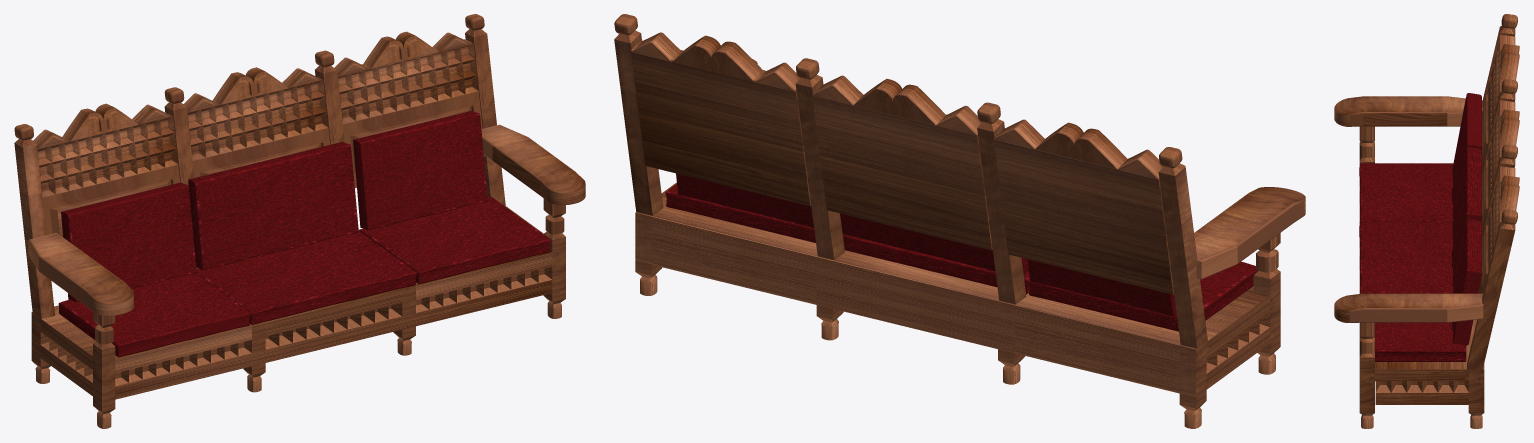
Rendered from SillonTriple.obj.
The picture shows the model from 3 angles, left to right: view 1: azimuth 30°, elevation 25°; view 2: azimuth 150°, elevation 25°; view 3: azimuth 270°, elevation 25°; orthographic projection. The views are drawn at different scales.
Parts seen in each view (by area): view 1: BaseTriple:pCube34, AlmohadasTriple:pasted__pasted__pasted__pCube35pasted__pasted__g, AlmohadasTriple:pasted__pasted__pCube35pasted__group92group94, AlmohadasTriple:pCube35, AlmohadasTriple:pasted__pasted__pCube35pasted__group92group95, AlmohadasTriple:pasted__pasted__pCube35pasted__group92group93; view 2: BaseTriple:pCube34, AlmohadasTriple:pasted__pasted__pasted__pCube35pasted__pasted__g, AlmohadasTriple:pasted__pasted__pCube35pasted__group92group93, AlmohadasTriple:pasted__pasted__pCube35pasted__group92group94, AlmohadasTriple:pCube35, AlmohadasTriple:pasted__pasted__pCube35pasted__group92group95; view 3: BaseTriple:pCube34, AlmohadasTriple:pCube35, AlmohadasTriple:pasted__pasted__pCube35pasted__group92group93, AlmohadasTriple:pasted__pasted__pasted__pCube35pasted__pasted__g, AlmohadasTriple:pasted__pasted__pCube35pasted__group92group95, AlmohadasTriple:pasted__pasted__pCube35pasted__group92group94.
Part boxes in pixels (x1,y1,x2,y2): BaseTriple:pCube34: (14, 14, 585, 428); AlmohadasTriple:pasted__pasted__pasted__pCube35pasted__pasted__g: (61, 141, 358, 302); AlmohadasTriple:pasted__pasted__pCube35pasted__group92group94: (353, 110, 487, 230); AlmohadasTriple:pCube35: (196, 230, 416, 324); AlmohadasTriple:pasted__pasted__pCube35pasted__group92group95: (359, 196, 550, 284); AlmohadasTriple:pasted__pasted__pCube35pasted__group92group93: (58, 273, 250, 357); BaseTriple:pCube34: (614, 14, 1305, 428); AlmohadasTriple:pasted__pasted__pasted__pCube35pasted__pasted__g: (840, 213, 1176, 316); AlmohadasTriple:pasted__pasted__pCube35pasted__group92group93: (1028, 261, 1257, 331); AlmohadasTriple:pasted__pasted__pCube35pasted__group92group94: (676, 173, 813, 227); AlmohadasTriple:pCube35: (842, 234, 1029, 294); AlmohadasTriple:pasted__pasted__pCube35pasted__group92group95: (665, 184, 815, 242); BaseTriple:pCube34: (1334, 14, 1519, 428); AlmohadasTriple:pCube35: (1359, 221, 1453, 293); AlmohadasTriple:pasted__pasted__pCube35pasted__group92group93: (1359, 163, 1453, 221); AlmohadasTriple:pasted__pasted__pasted__pCube35pasted__pasted__g: (1452, 93, 1482, 287); AlmohadasTriple:pasted__pasted__pCube35pasted__group92group95: (1360, 322, 1466, 361); AlmohadasTriple:pasted__pasted__pCube35pasted__group92group94: (1452, 219, 1482, 345).
Bounding box in the file's own units: 2 × 0.9411 × 0.7352.
Materials: 2 (2 with a texture image).
